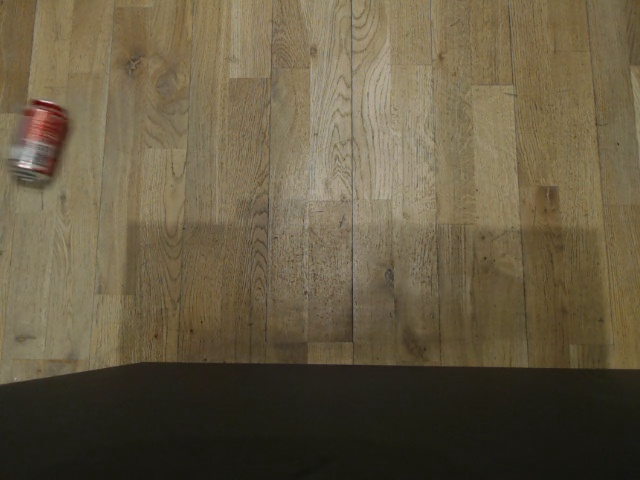coke: (6, 98, 70, 183)
